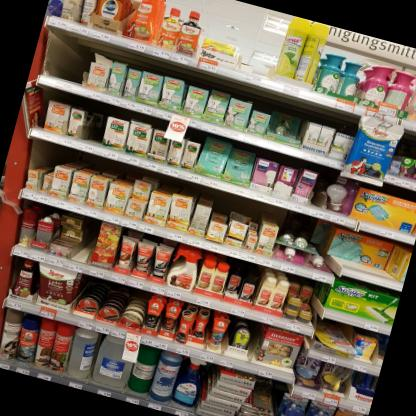empty_space: (40, 38, 89, 86), (78, 120, 105, 148)
